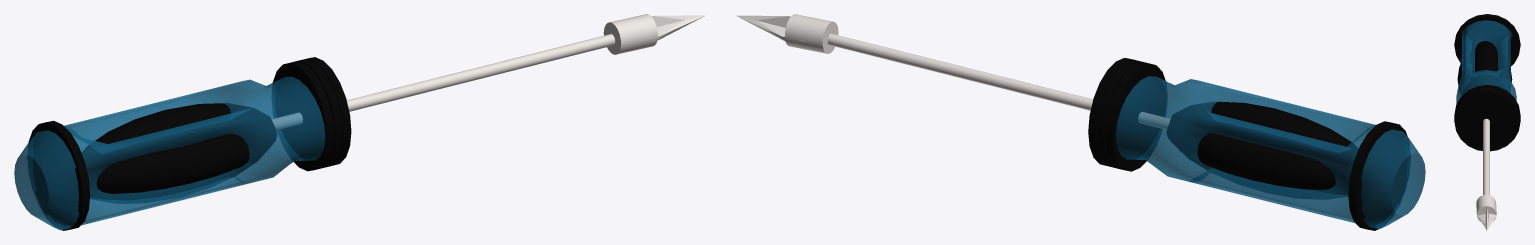
The model's file is ScrewDriver2.fbx.
3 views of the same model, side by side, from view 1: azimuth 30°, elevation 25°; view 2: azimuth 150°, elevation 25°; view 3: azimuth 270°, elevation 25° (orthographic). The views are drawn at different scales.
Visible parts, largest first — view 1: pCylinder1, pTorus1, pTorus2, pCylinder6, pCylinder5, pCylinder2, pCylinder7, pCylinder4, pCylinder3, pSphere1; view 2: pCylinder1, pTorus1, pCylinder6, pTorus2, pCylinder5, pCylinder2, pCylinder7, pCylinder4, pCylinder3, pSphere1; view 3: pCylinder3, pCylinder1, pCylinder6, pTorus2, pCylinder2, pTorus1, pCylinder7, pCylinder5, pCylinder4, pSphere1.
Part boxes in pixels (x1,y1,x2,y2): pCylinder1: (14,76,325,230); pTorus1: (87,124,276,193); pTorus2: (82,103,276,200); pCylinder6: (28,120,90,230); pCylinder5: (272,61,334,171); pCylinder2: (272,34,615,129); pCylinder7: (603,14,657,54); pCylinder4: (292,59,343,167); pCylinder3: (300,57,351,165); pSphere1: (651,15,705,40); pCylinder1: (1115,76,1425,228); pTorus1: (1166,123,1352,190); pCylinder6: (1348,121,1407,230); pTorus2: (1169,101,1358,194); pCylinder5: (1105,62,1166,171); pCylinder2: (827,33,1170,129); pCylinder7: (784,14,838,53); pCylinder4: (1096,59,1146,167); pCylinder3: (1088,58,1136,165); pSphere1: (736,15,803,41); pCylinder3: (1454,89,1520,151); pCylinder1: (1456,20,1516,104); pCylinder6: (1454,14,1520,65); pTorus2: (1474,41,1497,86); pCylinder2: (1483,118,1489,194); pTorus1: (1457,48,1512,94); pCylinder7: (1476,194,1496,221); pCylinder5: (1454,85,1520,116); pCylinder4: (1454,87,1520,118); pSphere1: (1478,208,1496,230).
Size of the model in its own units: 26.69 by 3.8 by 3.8.
